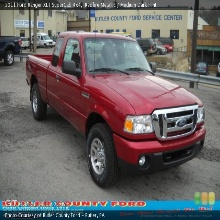no damage: (25, 30, 207, 188)
